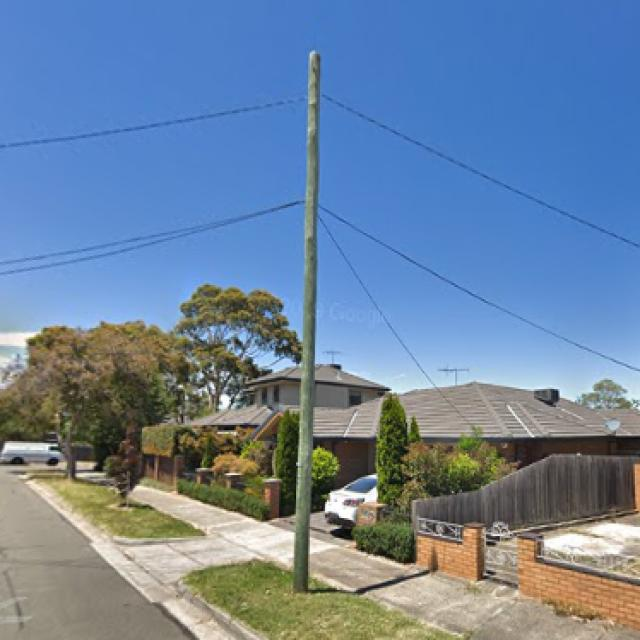timber-pole: (291, 48, 323, 593)
